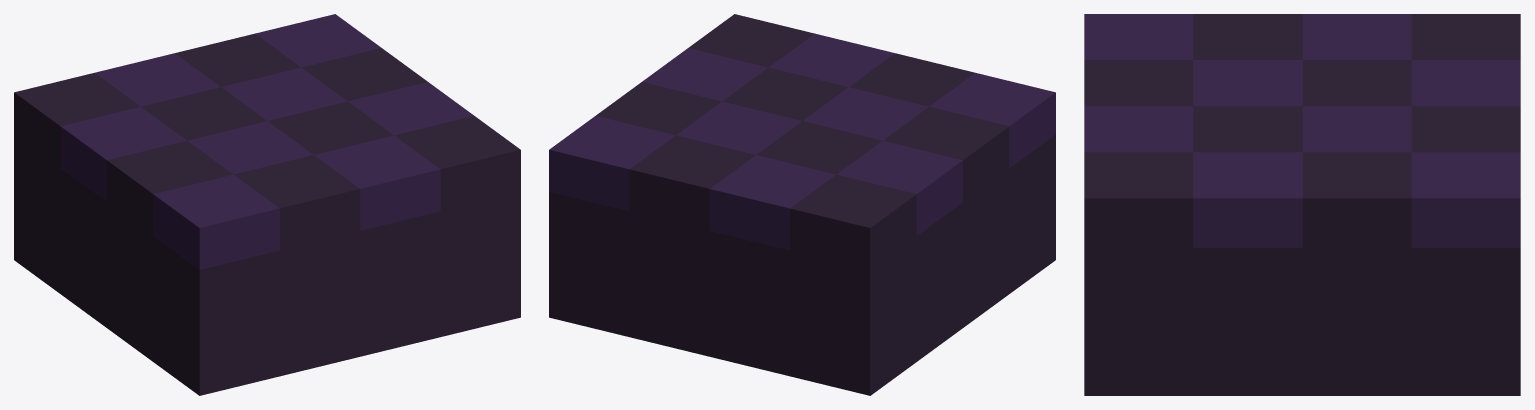
Rendered from coloredterrain.fbx.
The picture shows the model from 3 angles, left to right: view 1: azimuth 30°, elevation 25°; view 2: azimuth 150°, elevation 25°; view 3: azimuth 270°, elevation 25°; orthographic projection. The views are drawn at different scales.
Parts seen in each view (by area): view 1: Cube.002; view 2: Cube.002; view 3: Cube.002.
Part boxes in pixels (box(x1,y1,x2,y2)): Cube.002: box(14, 14, 520, 395); Cube.002: box(549, 14, 1055, 395); Cube.002: box(1084, 14, 1520, 395).
Bounding box in the file's own units: 2465 × 1231 × 2465.
